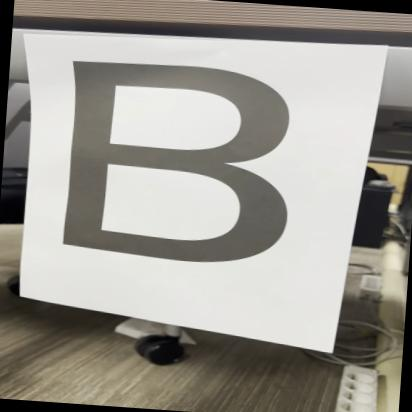seat: (32, 46, 320, 278)
